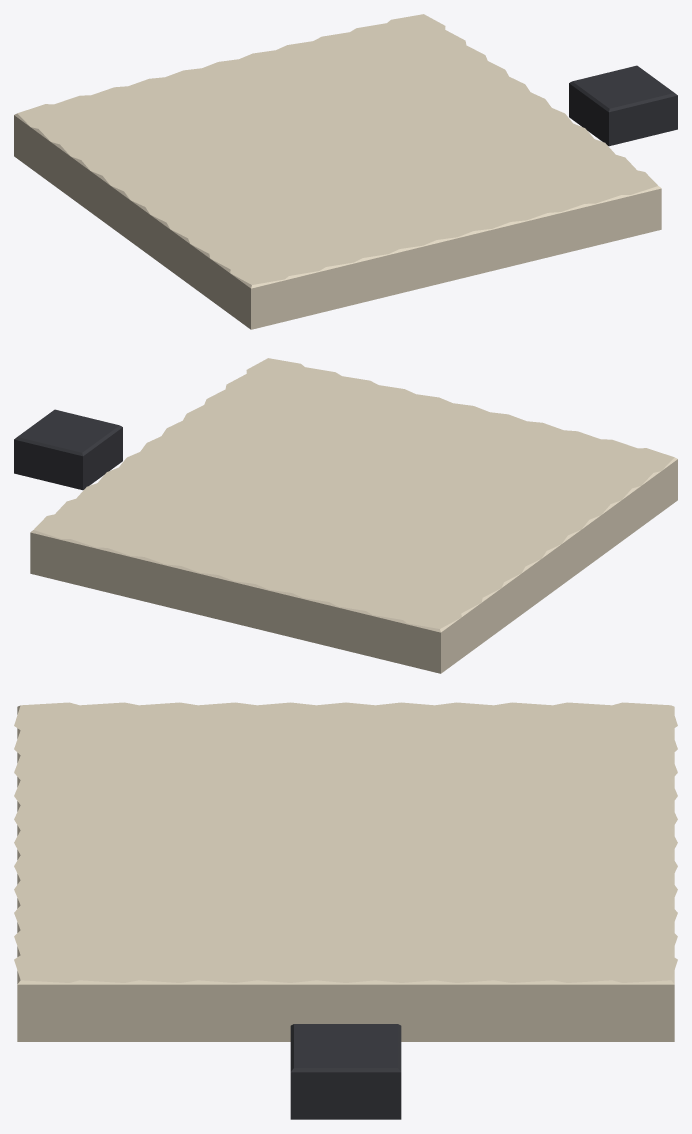
The model's file is mahsulot.glb.
3 renders of one model, top to bottom at view 1: azimuth 30°, elevation 25°; view 2: azimuth 150°, elevation 25°; view 3: azimuth 270°, elevation 25°, orthographic. The views are drawn at different scales.
Visible parts, largest first — view 1: mahsulot_A, mahsulot_B; view 2: mahsulot_A, mahsulot_B; view 3: mahsulot_A, mahsulot_B.
Boxes of the visible parts, <box> form: mahsulot_A: <box>14,14,661,329</box>; mahsulot_B: <box>569,65,677,146</box>; mahsulot_A: <box>30,358,677,673</box>; mahsulot_B: <box>14,409,122,490</box>; mahsulot_A: <box>14,702,677,1041</box>; mahsulot_B: <box>290,1024,401,1119</box>.
Size of the model in its own units: 0.3815 by 0.03 by 0.3.
